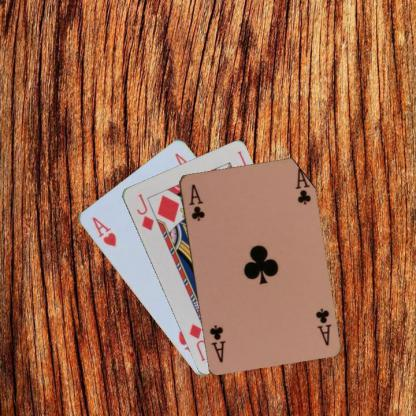Ac: (312, 305, 332, 347), (186, 182, 206, 223)
Ah: (89, 214, 117, 248)
Jd: (133, 190, 155, 232)
